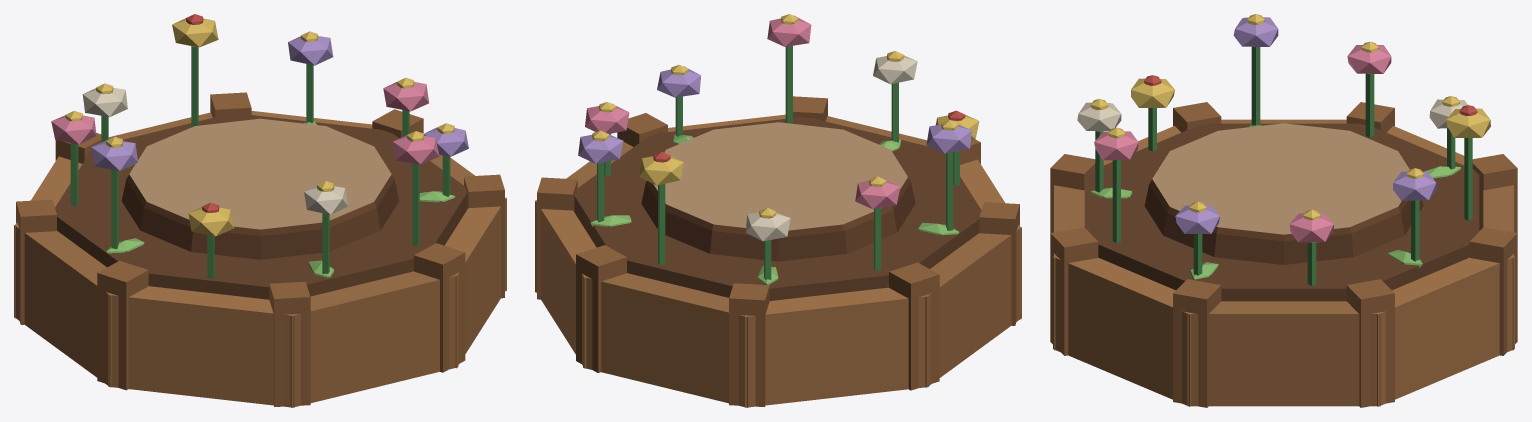
The model's file is habitat_flower_bed.fbx.
The picture shows the model from 3 angles, left to right: view 1: azimuth 30°, elevation 25°; view 2: azimuth 150°, elevation 25°; view 3: azimuth 270°, elevation 25°; orthographic projection.
Parts seen in each view (by area): view 1: habitat_flower_bed; view 2: habitat_flower_bed; view 3: habitat_flower_bed.
Part boxes in pixels (x1=…): habitat_flower_bed: x1=14, y1=14, x2=506, y2=407; habitat_flower_bed: x1=535, y1=14, x2=1021, y2=407; habitat_flower_bed: x1=1050, y1=14, x2=1517, y2=407.
Size of the model in its own units: 7.8 by 4 by 7.8.
